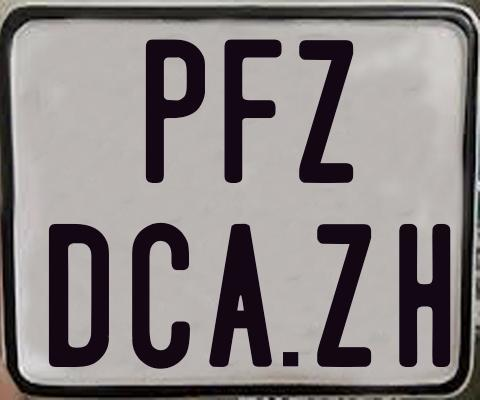A: (206, 222, 273, 365)
C: (131, 220, 195, 368)
D: (47, 222, 110, 365)
F: (224, 36, 282, 182)
H: (396, 224, 448, 368)
P: (146, 38, 211, 182)
Z: (314, 224, 372, 370), (298, 38, 356, 182)
